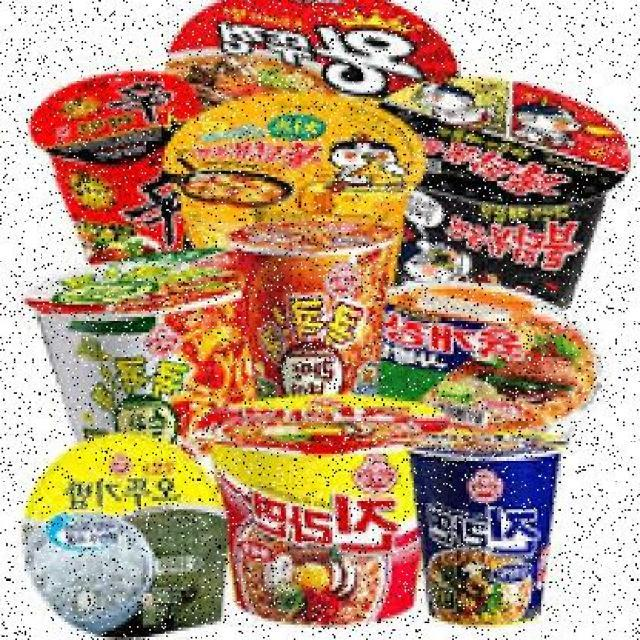Miscellaneous: (372, 74, 640, 333), (206, 384, 428, 618), (156, 95, 430, 276), (27, 248, 247, 460), (152, 0, 457, 137), (346, 299, 609, 450), (29, 71, 196, 294), (232, 221, 388, 442), (403, 435, 562, 628)
